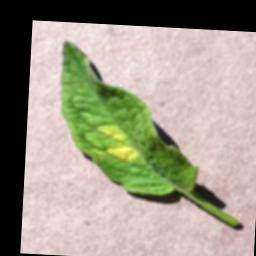Leaf_Mold: (90, 118, 146, 164)
